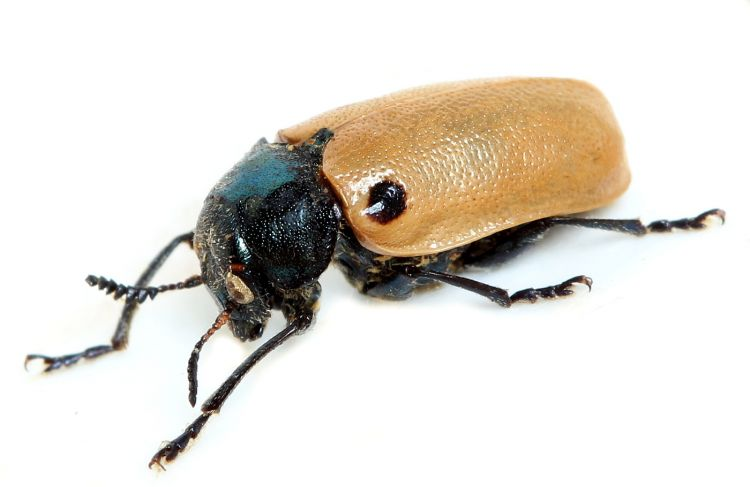Labidostomis_propinqua: (19, 57, 736, 473)
